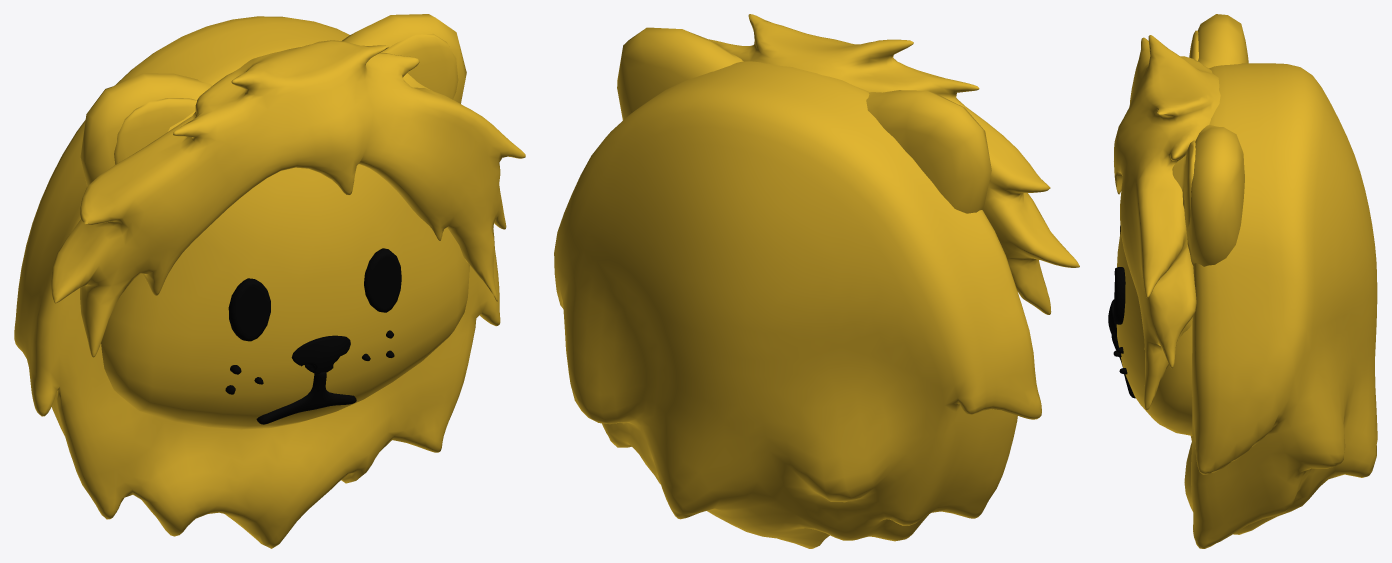
The model's file is lion FBX.glb.
3 views of the same model, side by side, from view 1: azimuth 30°, elevation 25°; view 2: azimuth 150°, elevation 25°; view 3: azimuth 270°, elevation 25° (orthographic). The views are drawn at different scales.
Parts seen in each view (by area): view 1: L6, L001, L003, L7, L2, L3, lion3; view 2: L003, L001, L6; view 3: L003, L001, L6, L7, L2.
Part boxes in pixels (<box>): L6: <box>80,14,469,429</box>; L001: <box>51,40,525,357</box>; L003: <box>14,16,500,548</box>; L7: <box>114,34,458,164</box>; L2: <box>228,248,401,341</box>; L3: <box>225,330,394,424</box>; lion3: <box>291,335,350,374</box>; L003: <box>554,61,1041,548</box>; L001: <box>709,14,1079,314</box>; L6: <box>617,27,991,213</box>; L003: <box>1184,63,1377,548</box>; L001: <box>1114,35,1220,410</box>; L6: <box>1116,14,1248,435</box>; L7: <box>1184,30,1198,236</box>; L2: <box>1113,225,1125,324</box>.
Bounding box in the file's own units: 0.5533 × 0.5662 × 0.2983.
